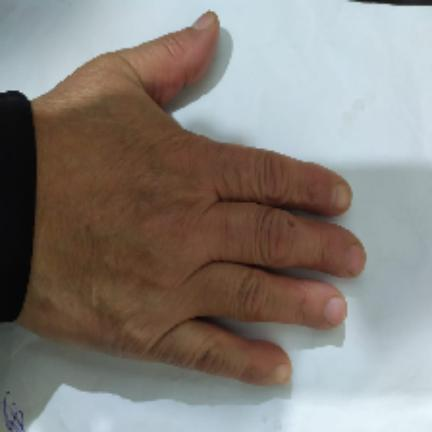Nail: (323, 296, 347, 326), (345, 244, 365, 275), (331, 183, 351, 212), (192, 11, 218, 30), (273, 364, 291, 384)
